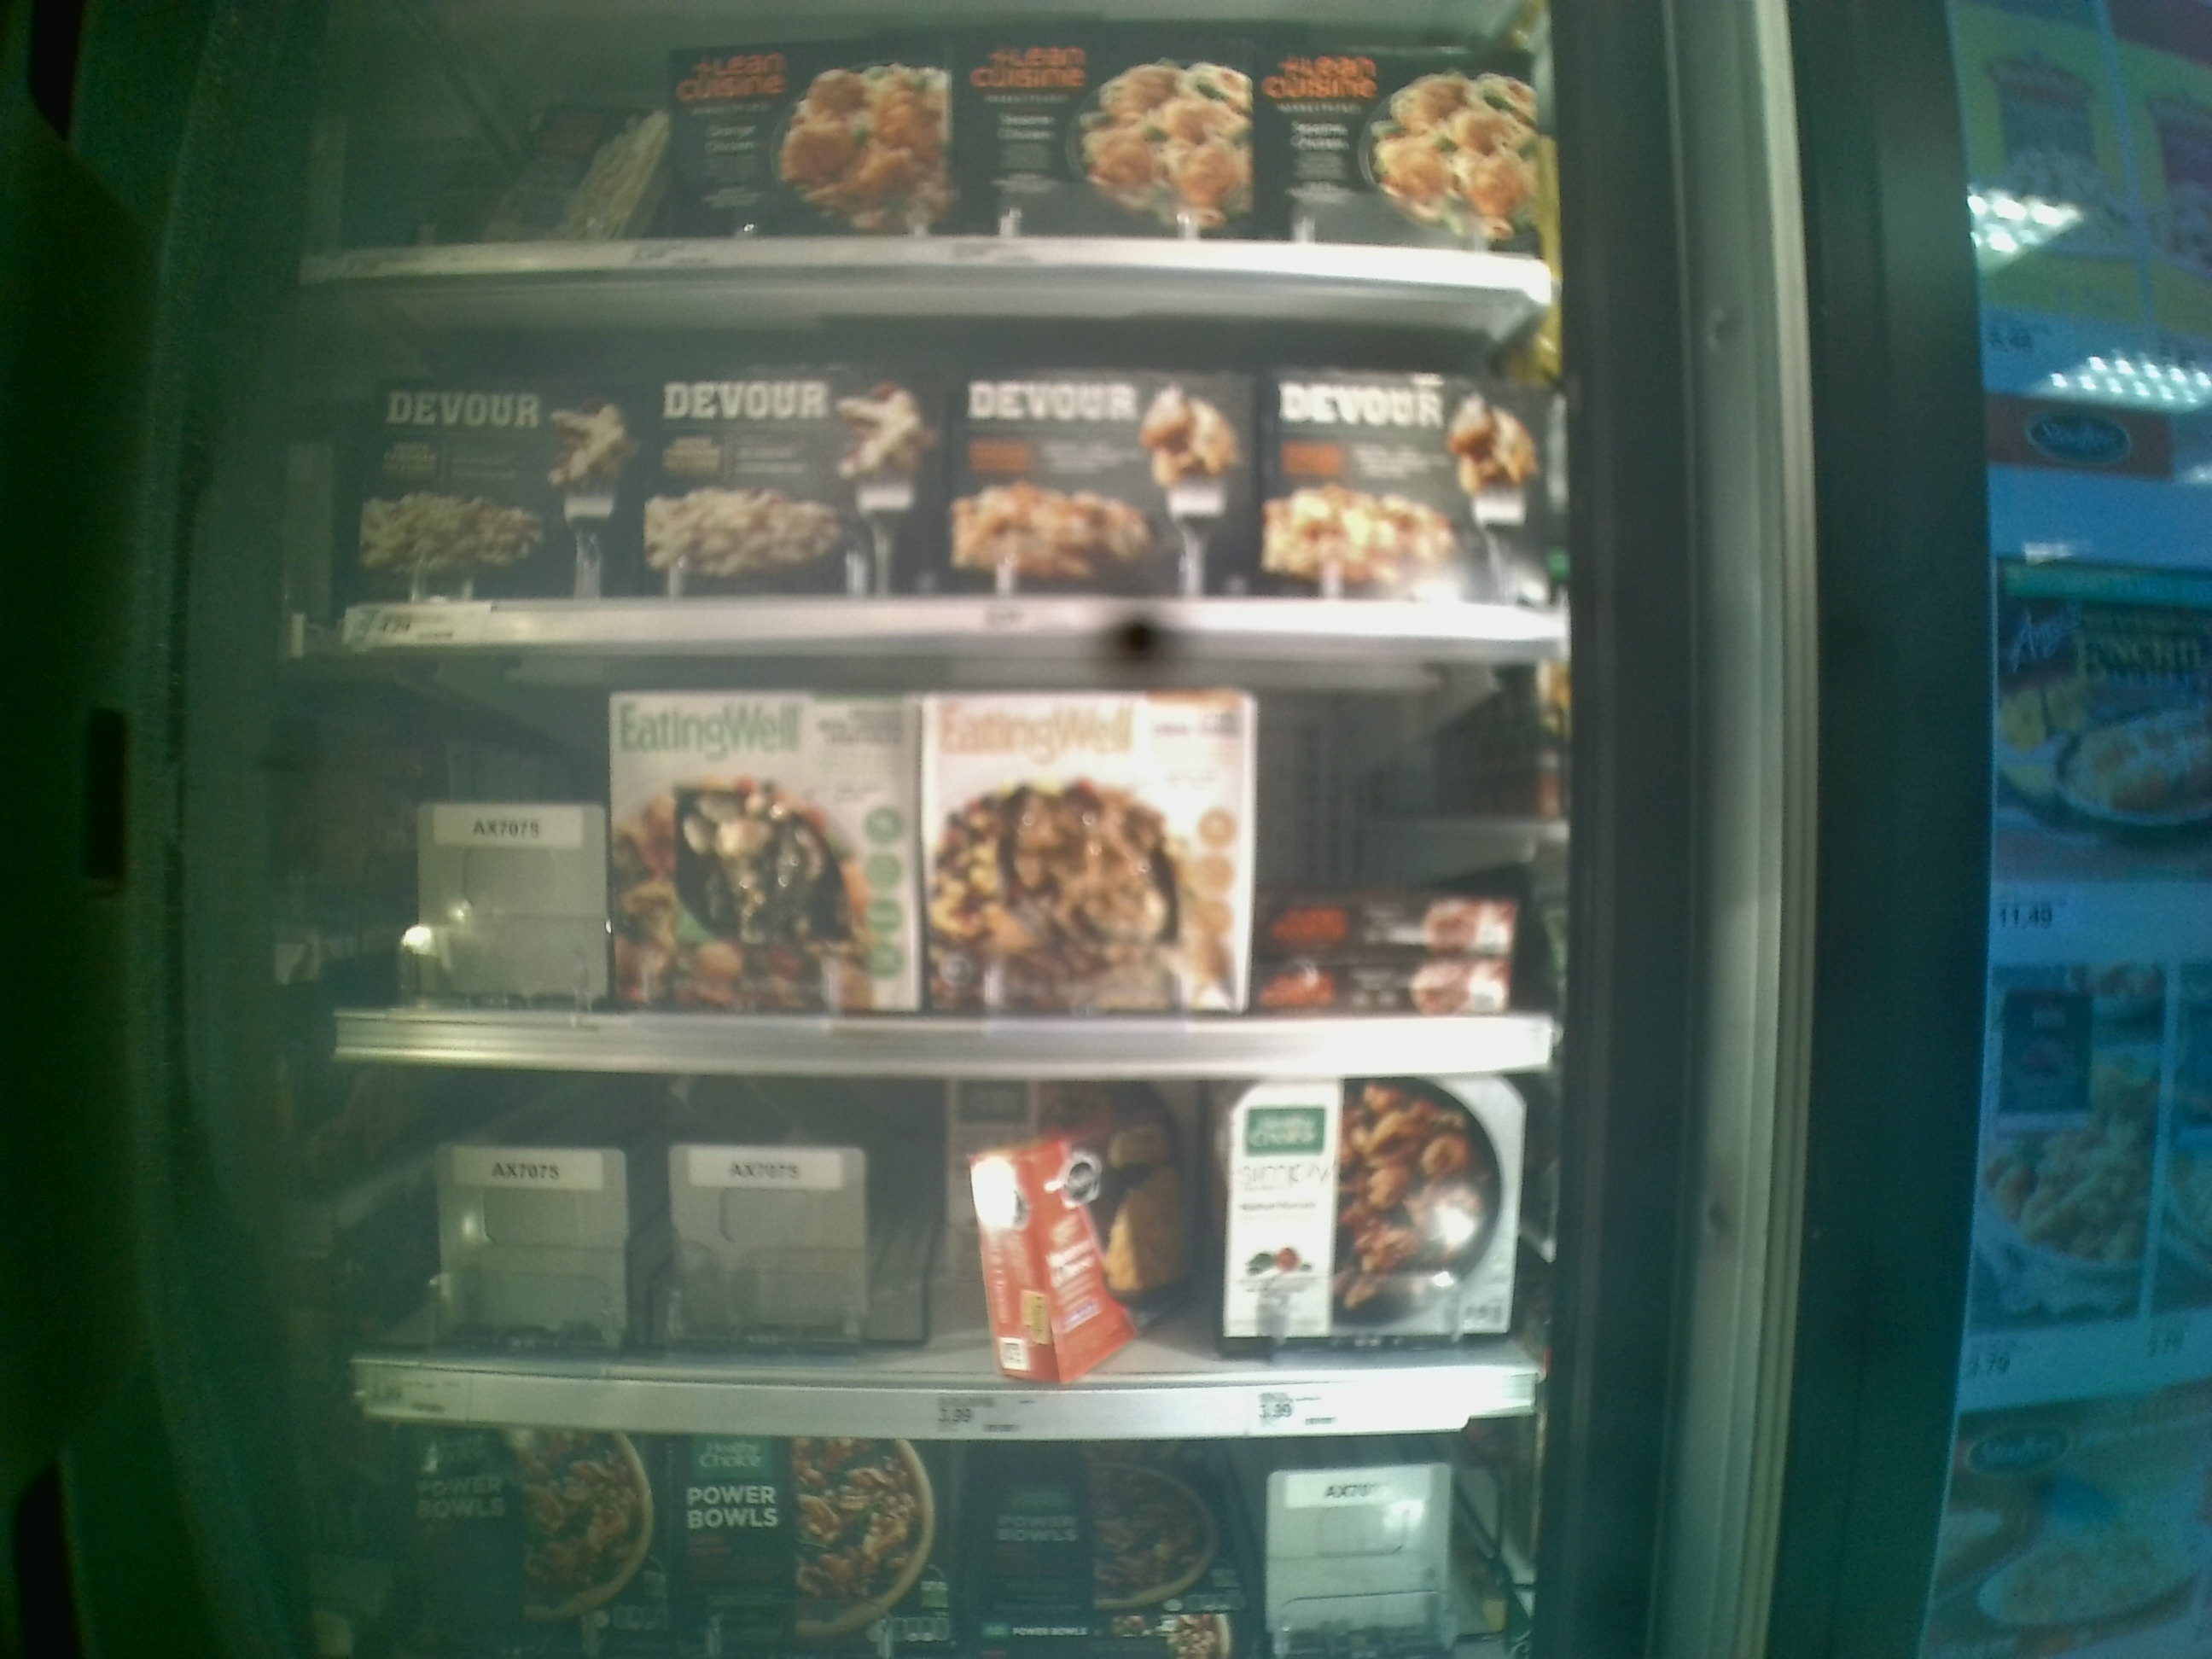shelf: (320, 643, 1569, 1068), (340, 1054, 1555, 1441), (319, 270, 1554, 643)
